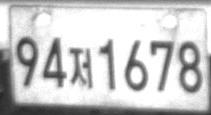1: (97, 38, 121, 90)
4: (42, 36, 67, 88)
6: (123, 40, 148, 91)
7: (150, 40, 175, 91)
8: (177, 40, 203, 94)
9: (15, 35, 39, 86)
저: (68, 46, 93, 88)
